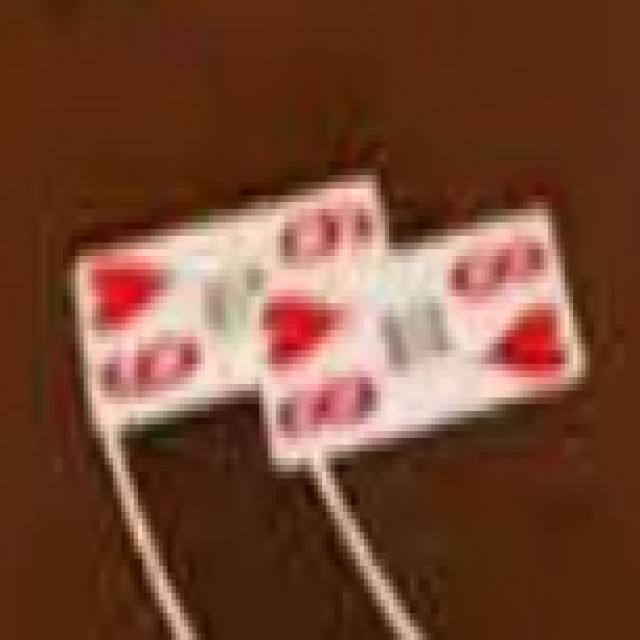Card-6: (81, 180, 385, 425)
Card-8: (253, 207, 583, 465)
